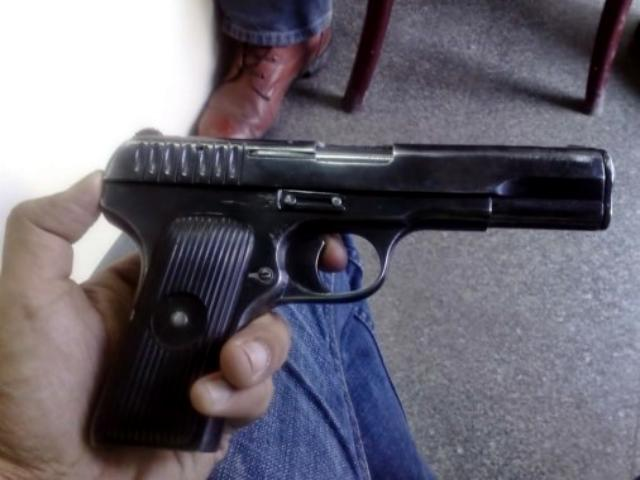pistol: (73, 111, 624, 458)
